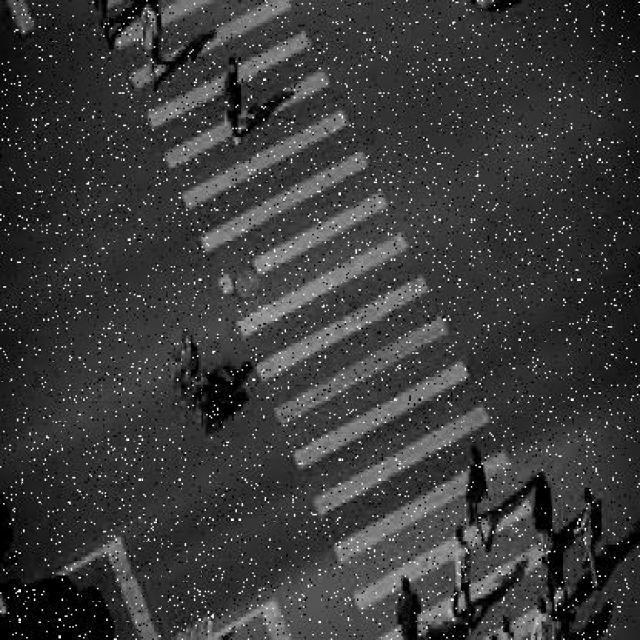crosswalk: (91, 2, 583, 640)
